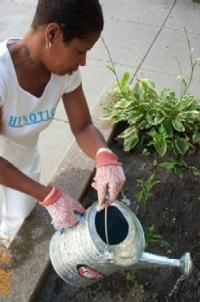person: (1, 2, 124, 252)
